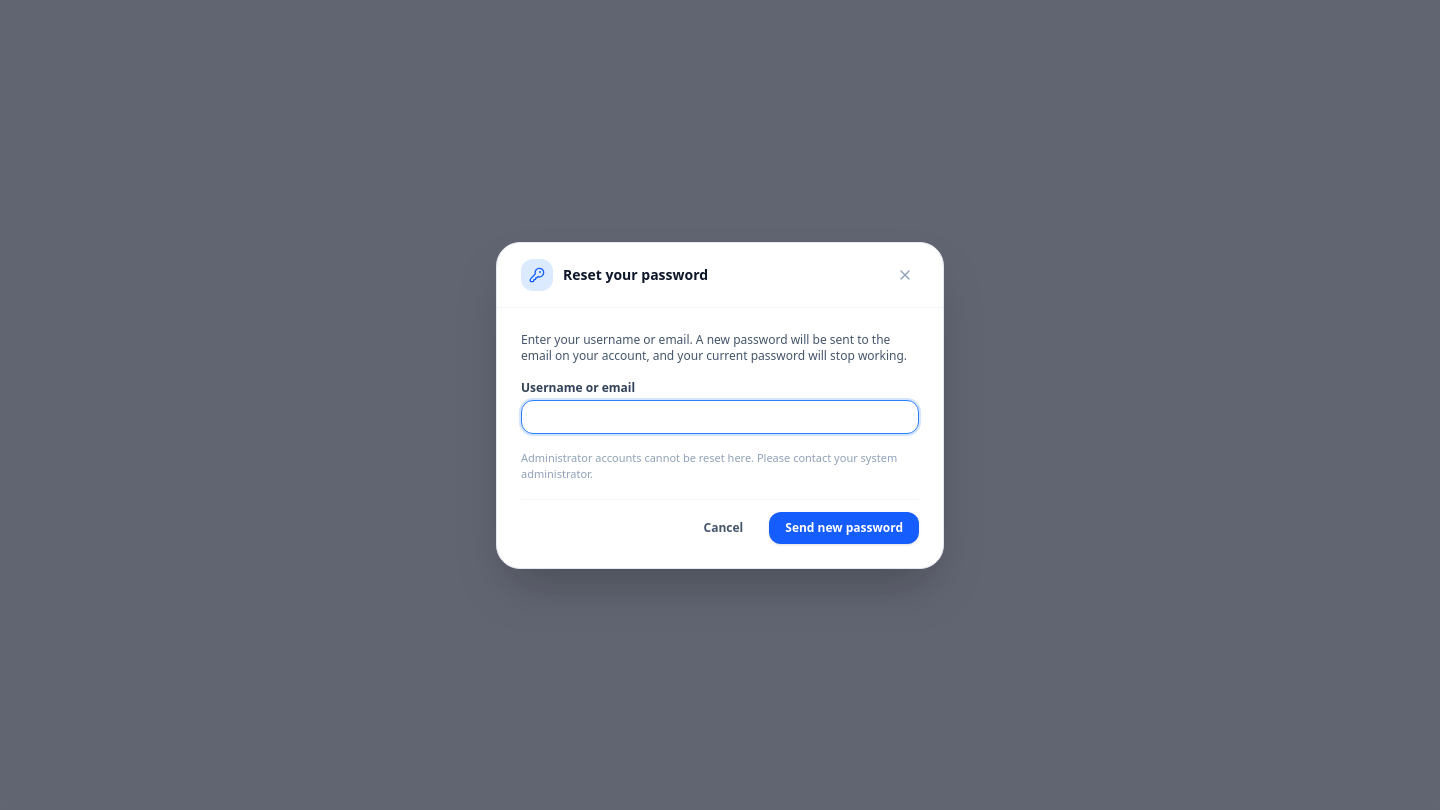
Test: requires a username or email before submitting
Click the button "Send new password" at (844, 528), box [769,512,919,544]
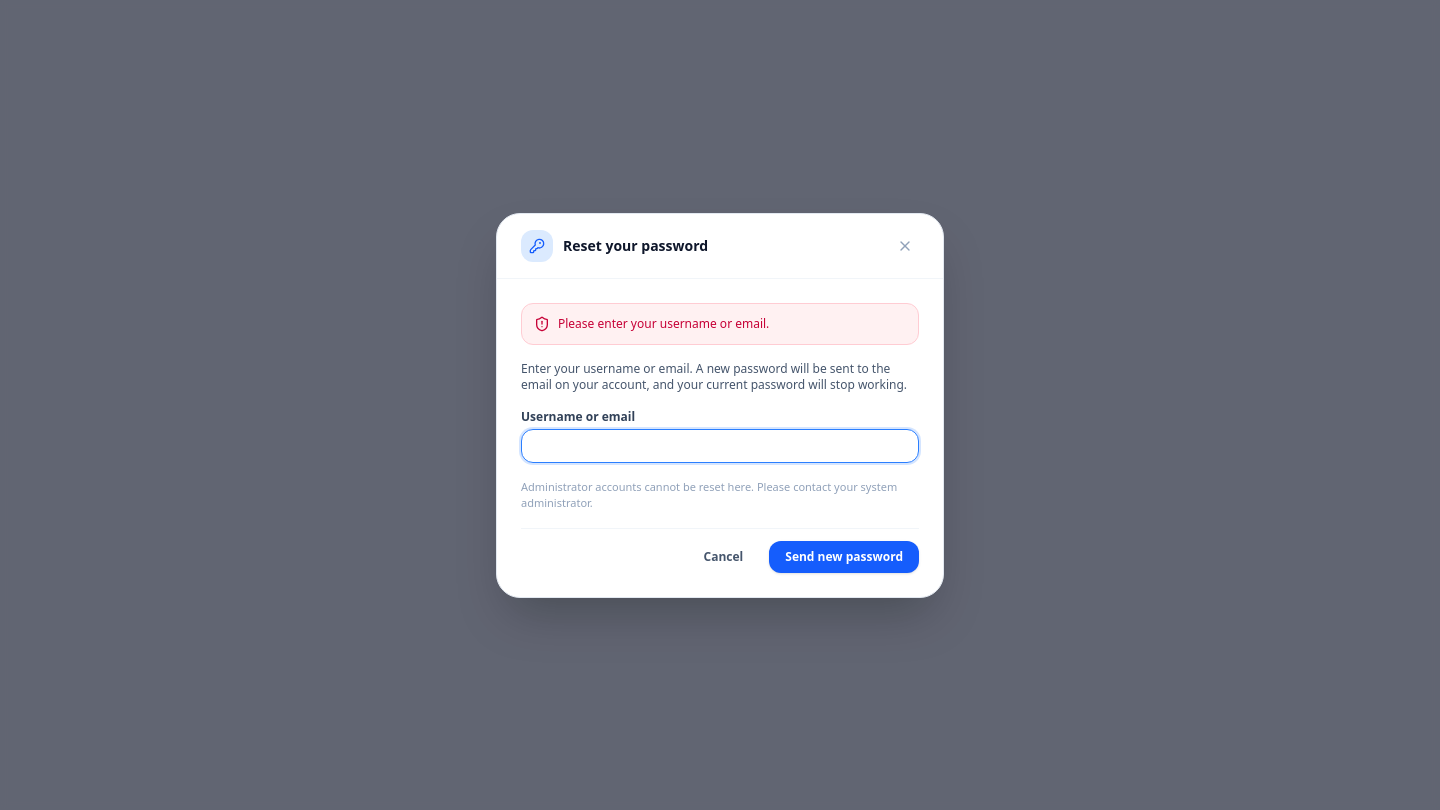
Check: the text "Please enter your username or email." is shown, box [558,316,769,332]
